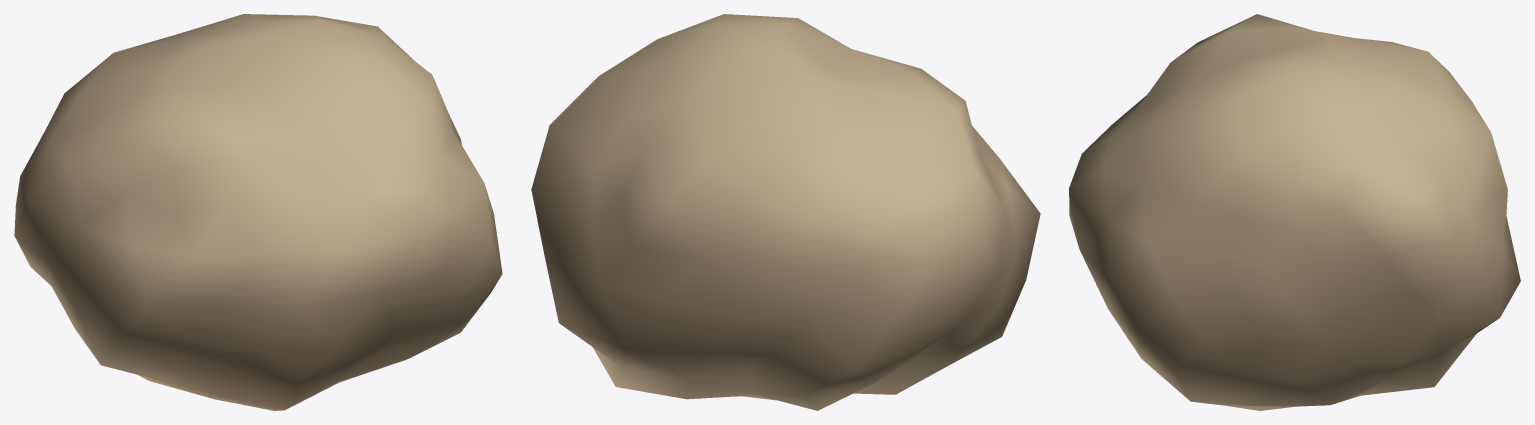
File: Beach_Boulder_Big.glb
The picture shows the model from 3 angles, left to right: view 1: azimuth 30°, elevation 25°; view 2: azimuth 150°, elevation 25°; view 3: azimuth 270°, elevation 25°; orthographic projection. The views are drawn at different scales.
Visible parts, largest first — view 1: Beach_Boulder_Big; view 2: Beach_Boulder_Big; view 3: Beach_Boulder_Big.
Part boxes in pixels (<box>): Beach_Boulder_Big: <box>14,14,502,410</box>; Beach_Boulder_Big: <box>531,14,1040,410</box>; Beach_Boulder_Big: <box>1069,14,1520,410</box>.
Size of the model in its own units: 2.84 by 2.33 by 2.77.
